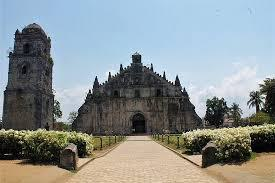Paoay Church: (2, 22, 204, 134)
